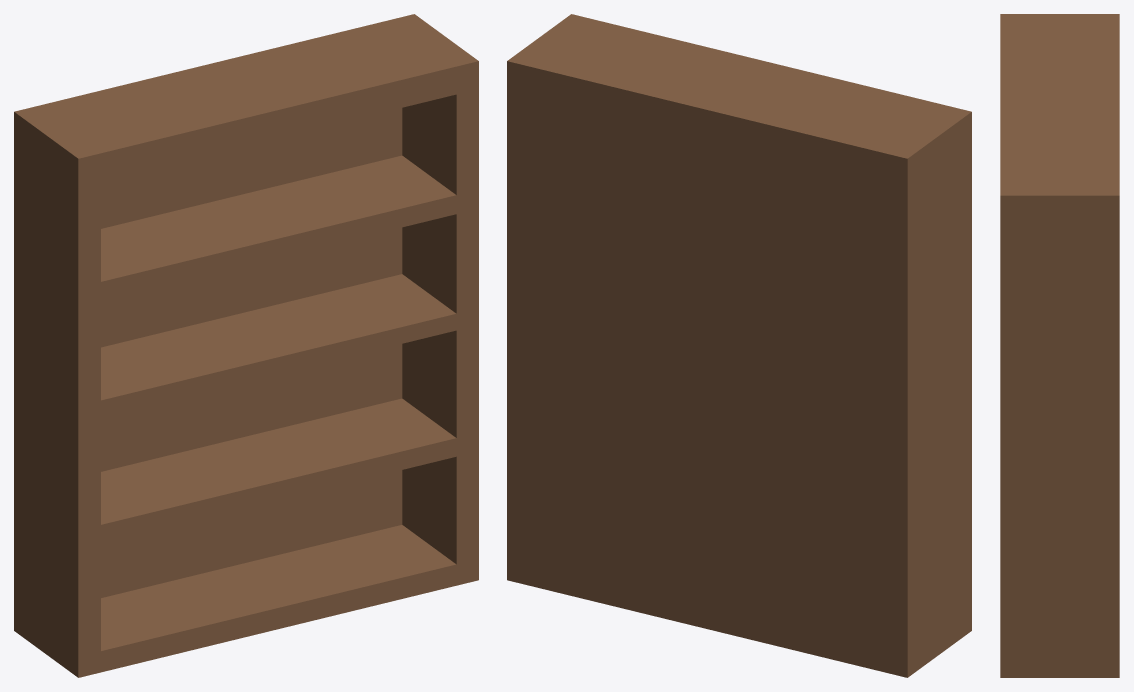
Rendered from Bookshelf.fbx.
The picture shows the model from 3 angles, left to right: view 1: azimuth 30°, elevation 25°; view 2: azimuth 150°, elevation 25°; view 3: azimuth 270°, elevation 25°; orthographic projection. The views are drawn at different scales.
Parts seen in each view (by area): view 1: Bookshelf; view 2: Bookshelf; view 3: Bookshelf.
Boxes of the visible parts, x1,y1,x2,y2 form: Bookshelf: (14,14,478,677); Bookshelf: (507,14,971,677); Bookshelf: (1000,14,1119,677).
Size of the model in its own units: 3000 by 3717 by 835.
